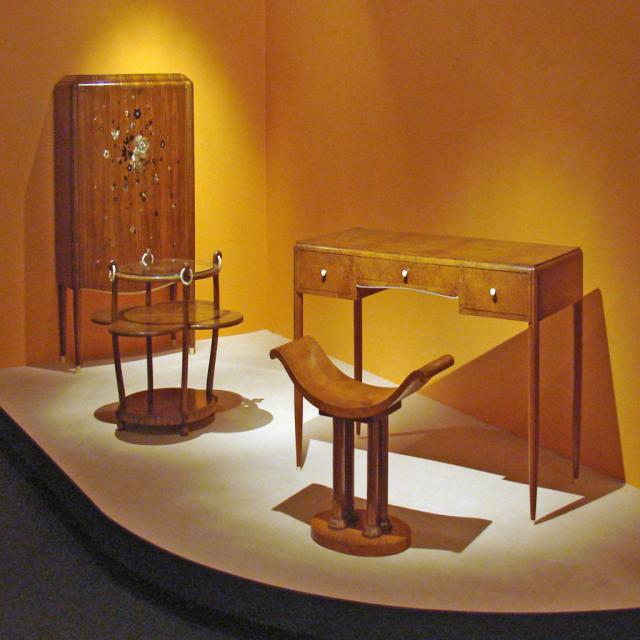desk: (294, 227, 574, 481)
